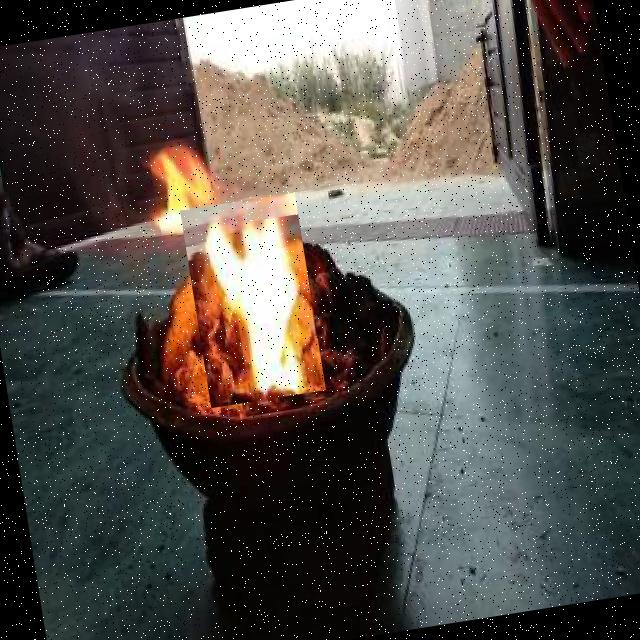fire: (180, 192, 326, 408), (148, 139, 236, 236)
